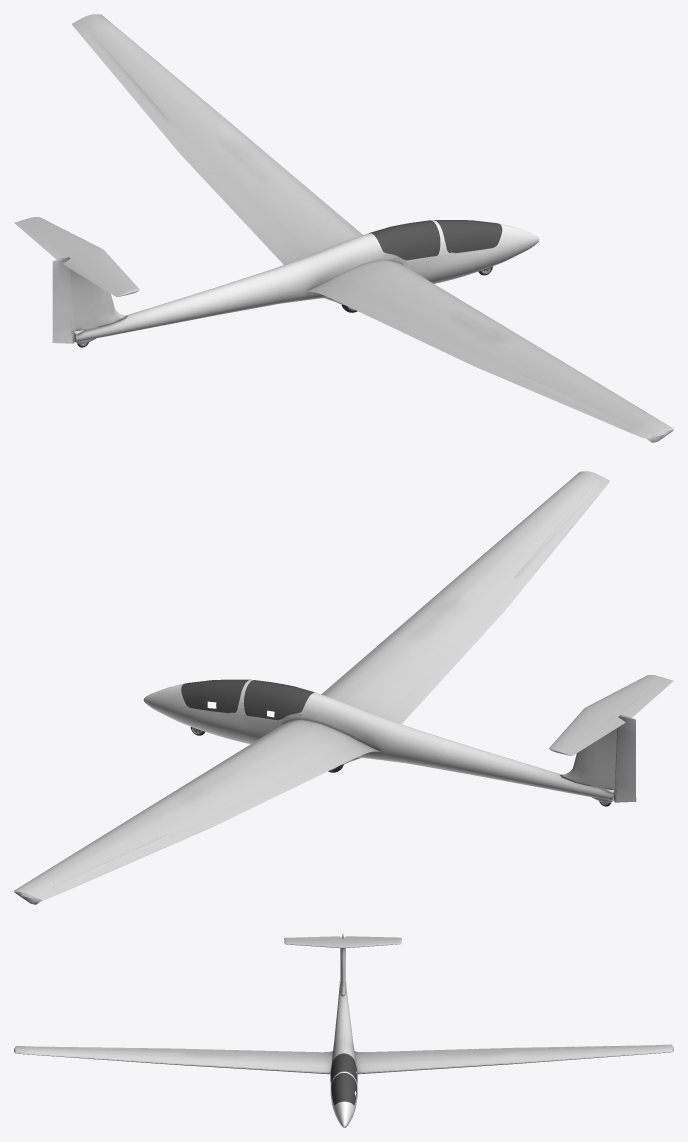
The model's file is GLID.glb.
3 views of the same model, one above another, from view 1: azimuth 30°, elevation 25°; view 2: azimuth 150°, elevation 25°; view 3: azimuth 270°, elevation 25° (orthographic). The views are drawn at different scales.
Parts seen in each view (by area): view 1: rootNode; view 2: rootNode; view 3: rootNode.
Part boxes in pixels (x1,y1,x2,y2): rootNode: [14, 14, 673, 442]; rootNode: [14, 471, 673, 904]; rootNode: [14, 933, 673, 1127].
Size of the model in its own units: 8.33 by 2.06 by 16.91.
9 materials, 7 textured.
